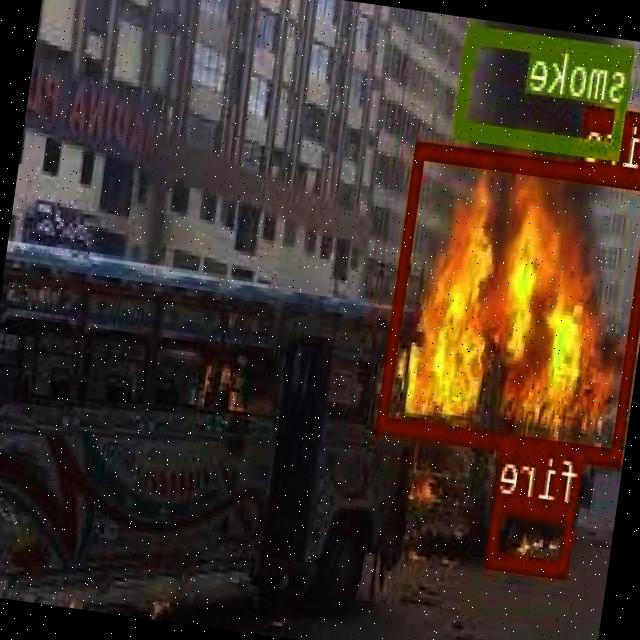fire: (379, 141, 640, 464), (489, 494, 578, 574)
smoke: (456, 23, 638, 156)
